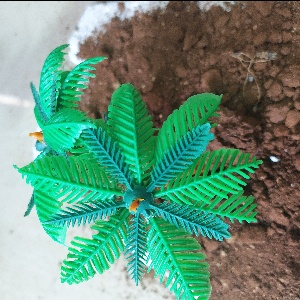plant: (12, 43, 266, 300)
